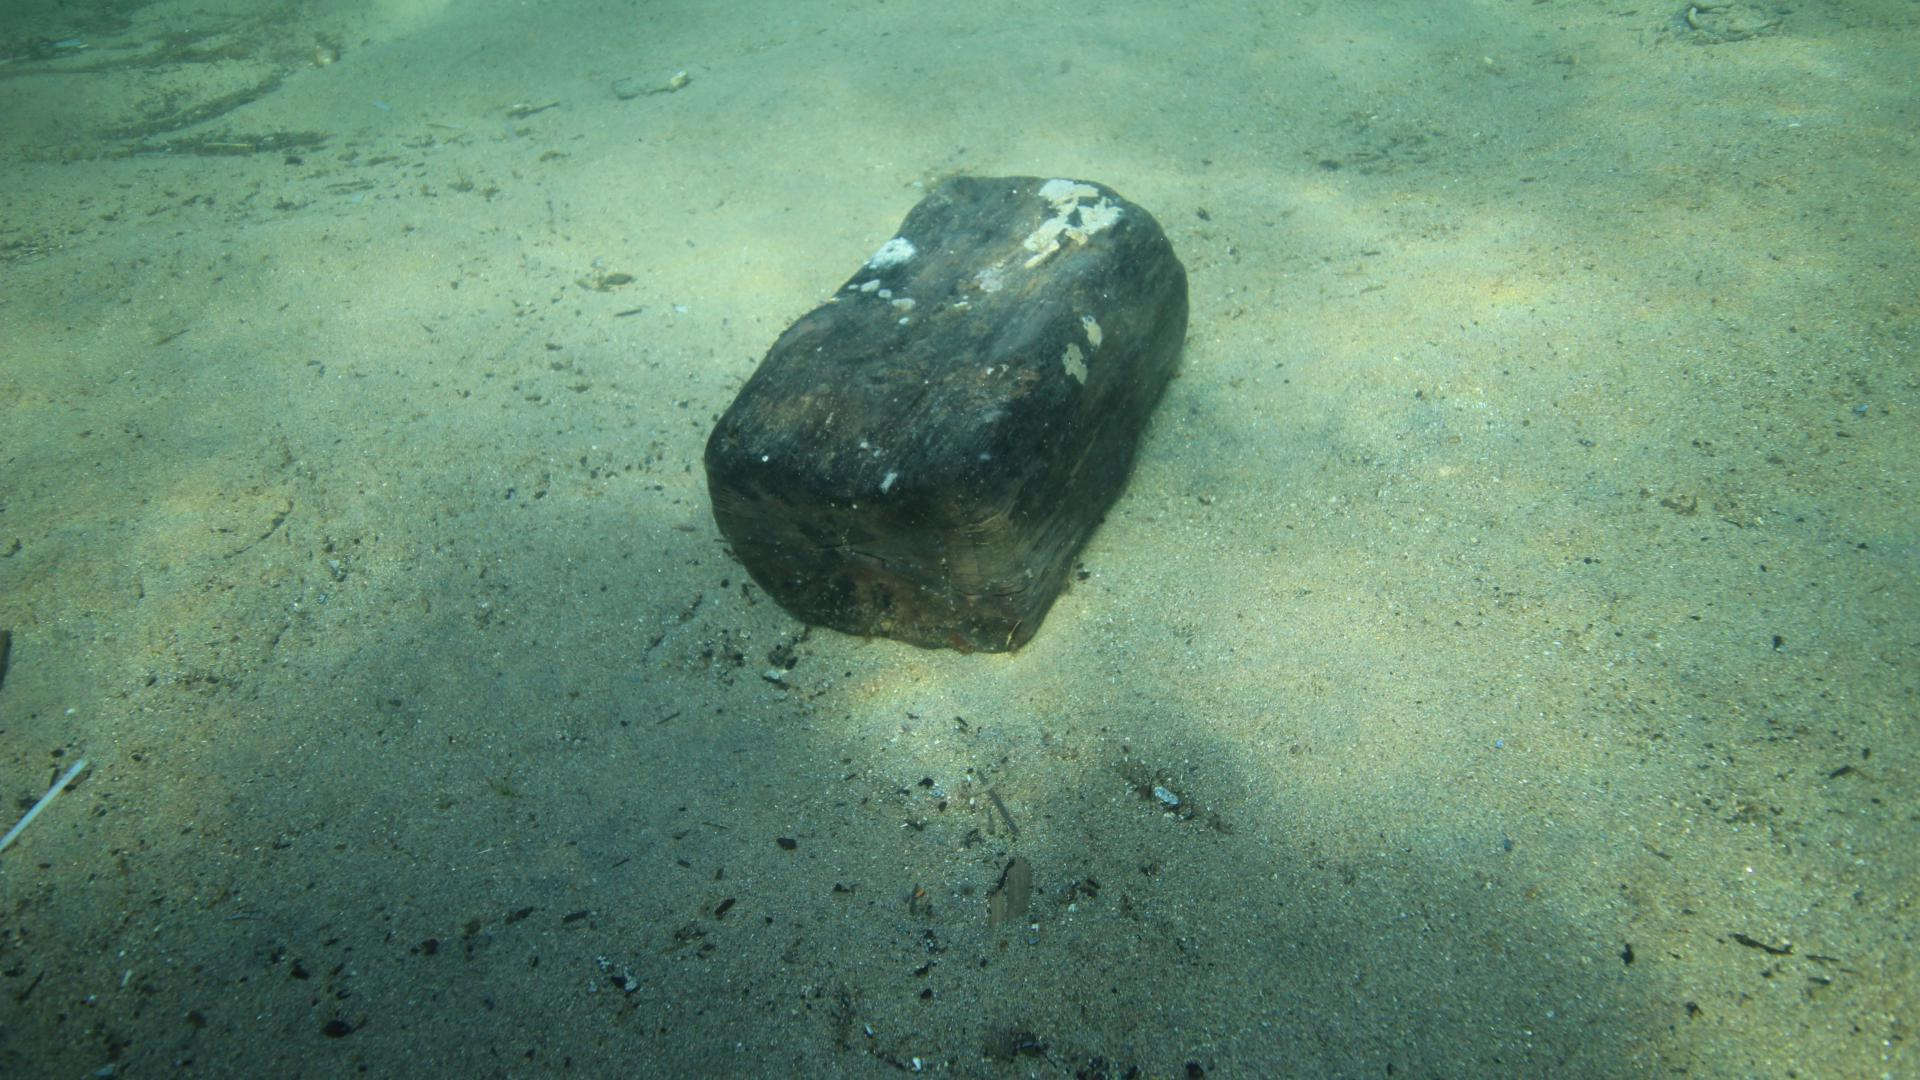wood: (700, 169, 1185, 651)
